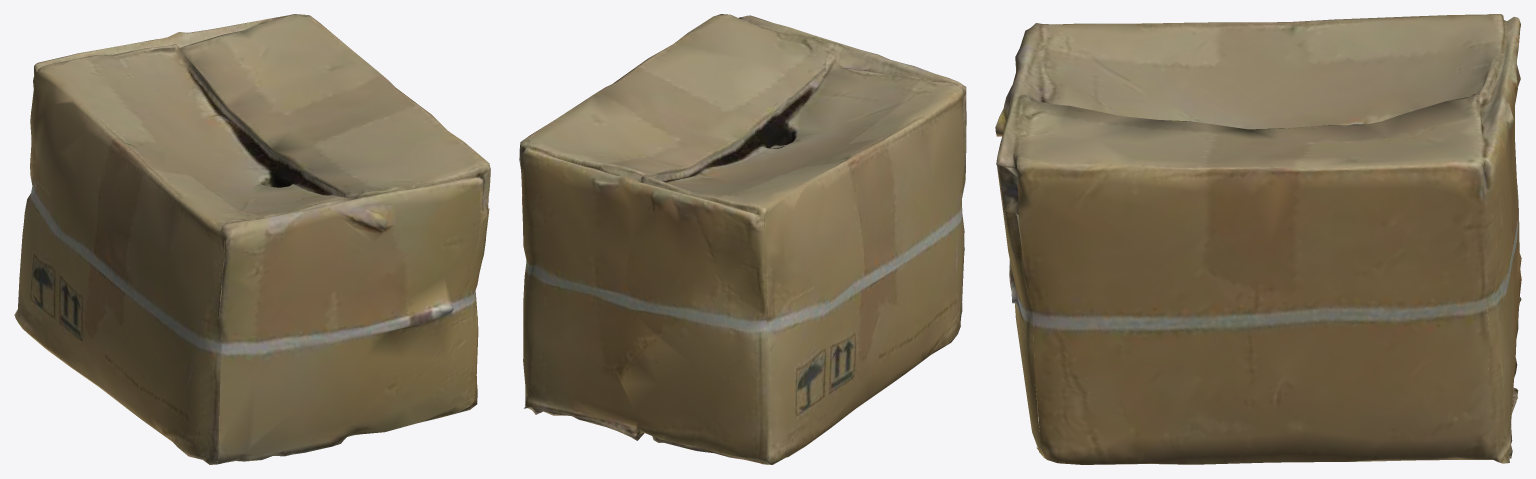
Rendered from cardboard_box.glb.
3 views of the same model, side by side, from view 1: azimuth 30°, elevation 25°; view 2: azimuth 150°, elevation 25°; view 3: azimuth 270°, elevation 25° (orthographic). The views are drawn at different scales.
Visible parts, largest first — view 1: cardboard_box; view 2: cardboard_box; view 3: cardboard_box.
Boxes of the visible parts, x1,y1,x2,y2 form: cardboard_box: [14, 14, 490, 464]; cardboard_box: [519, 14, 966, 464]; cardboard_box: [995, 14, 1521, 464].
Size of the model in its own units: 0.387 by 0.3415 by 0.5159.
Materials: 1 (1 with a texture image).
